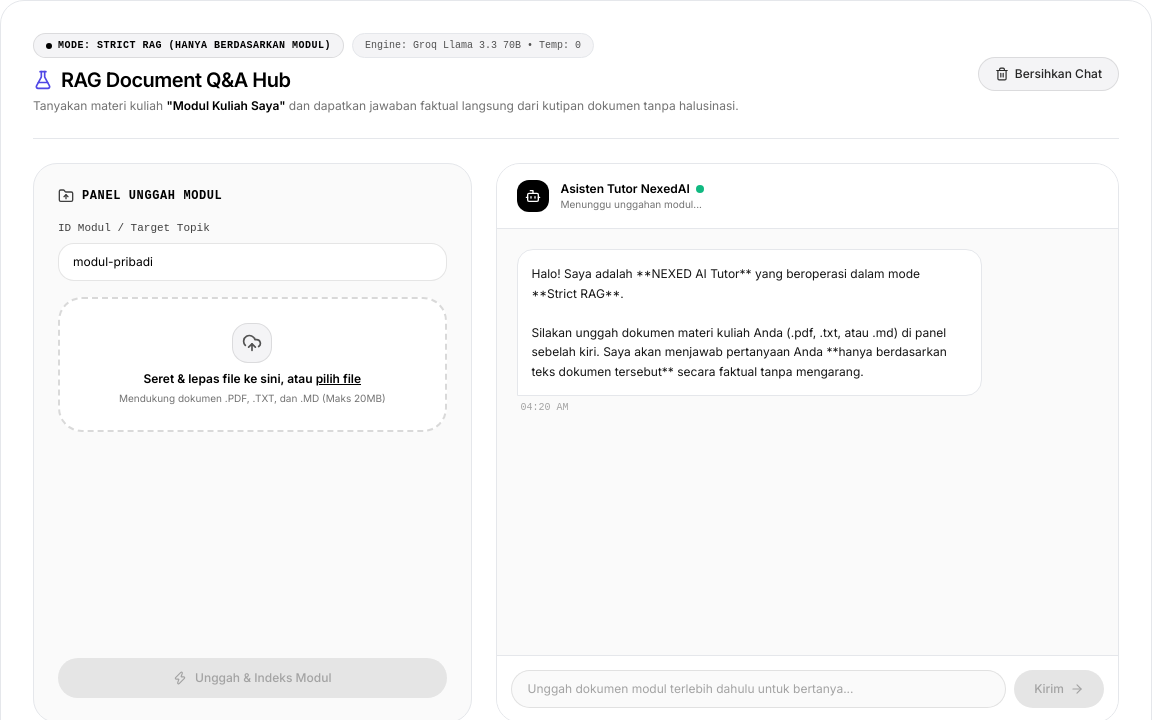
ModuleRagChat Component › should reset chat when Bersihkan Chat button is clicked
Click the button "Bersihkan Chat" at (1048, 74), box [978,56,1119,90]
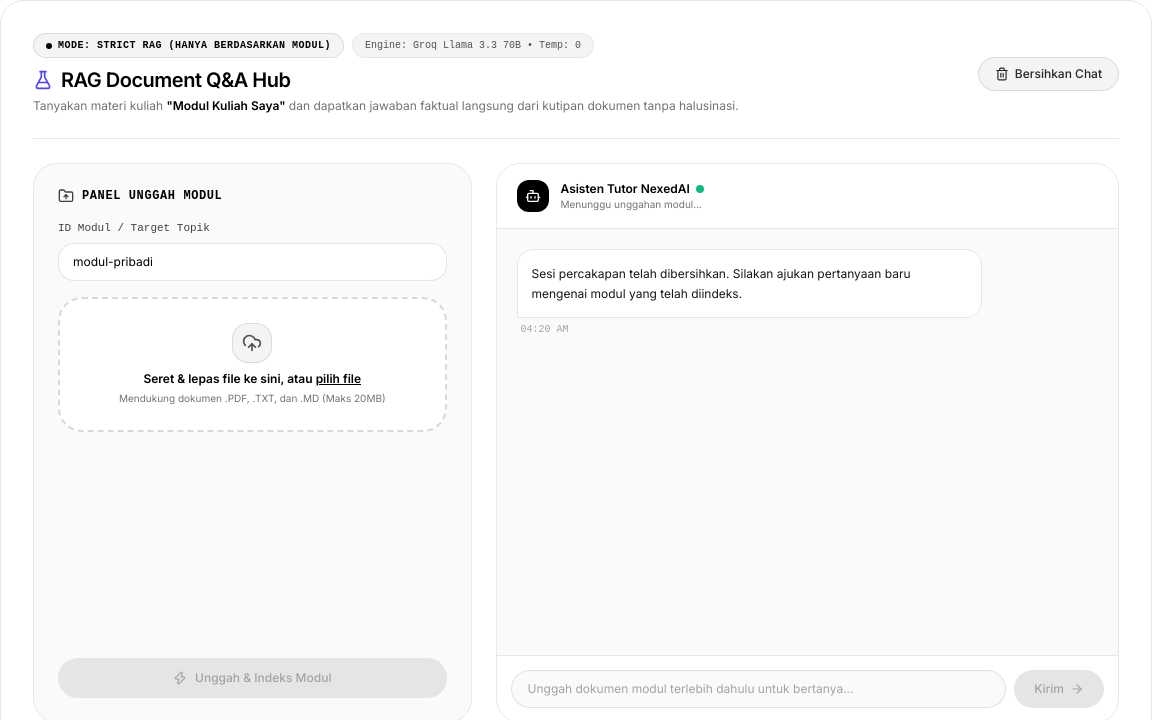
Expected: the text "Sesi percakapan telah dibersihkan" is shown, [532,266,914,300]
